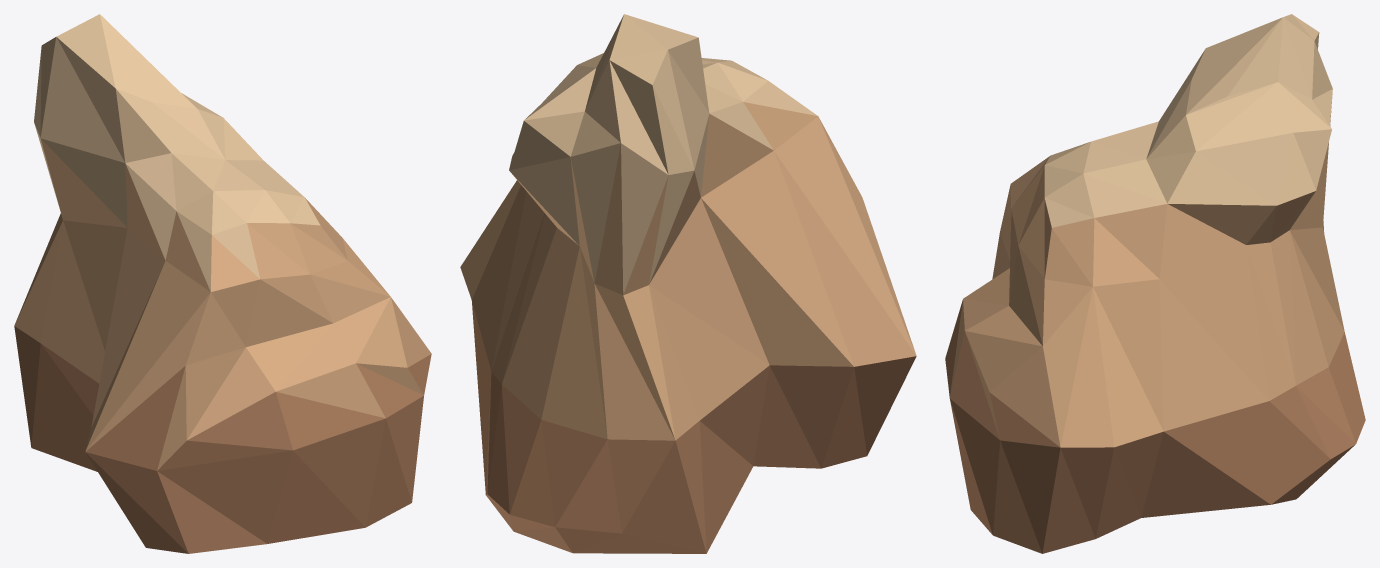
File: canyon-4-3.glb
3 views of the same model, side by side, from view 1: azimuth 30°, elevation 25°; view 2: azimuth 150°, elevation 25°; view 3: azimuth 270°, elevation 25° (orthographic). The views are drawn at different scales.
Visible parts, largest first — view 1: canyon-4-3; view 2: canyon-4-3; view 3: canyon-4-3.
Part boxes in pixels (x1,y1,x2,y2): canyon-4-3: [14, 14, 431, 553]; canyon-4-3: [460, 14, 916, 553]; canyon-4-3: [945, 14, 1365, 553].
Size of the model in its own units: 24.58 by 30 by 25.26.
